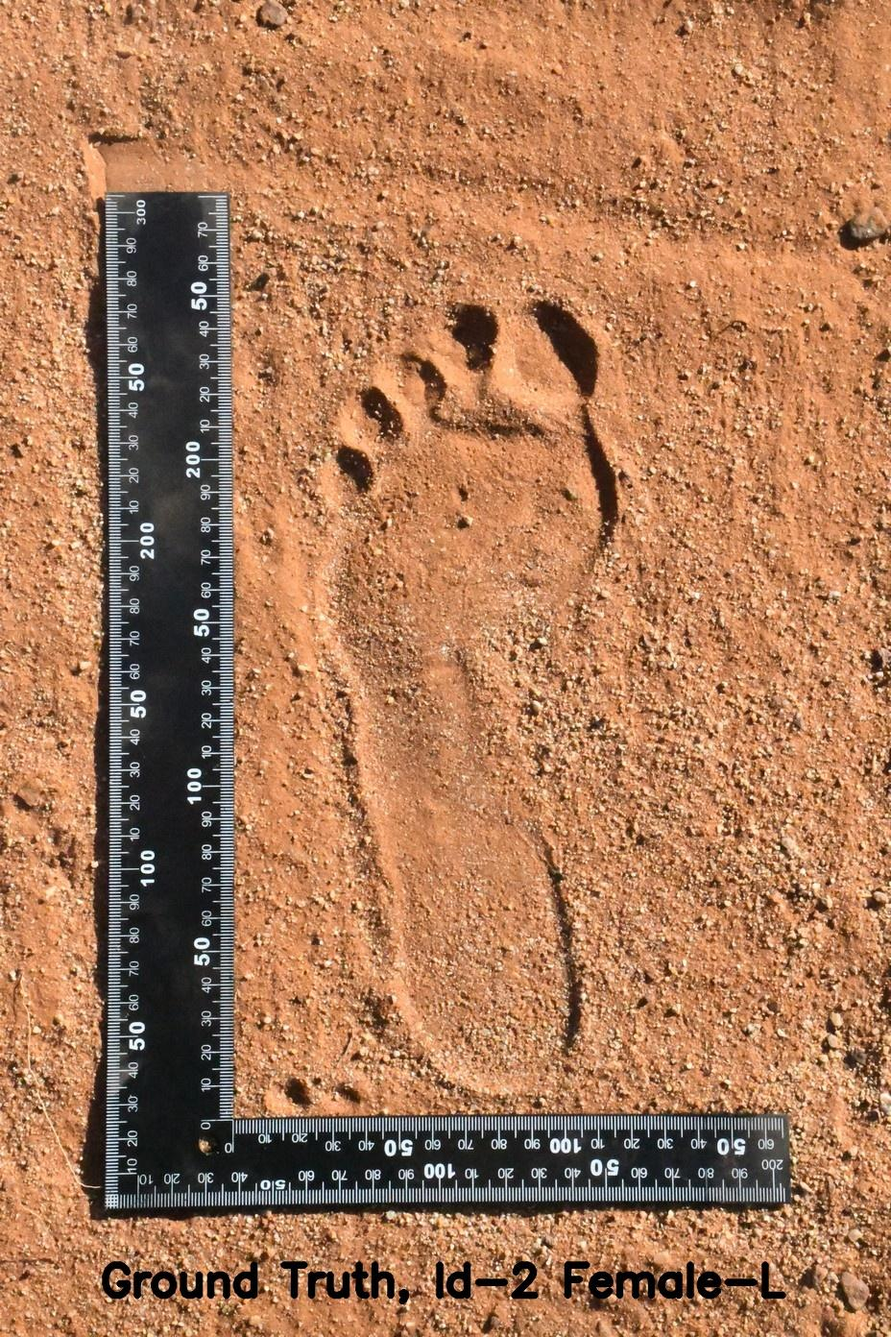human_foot_print: (295, 241, 644, 1114)
